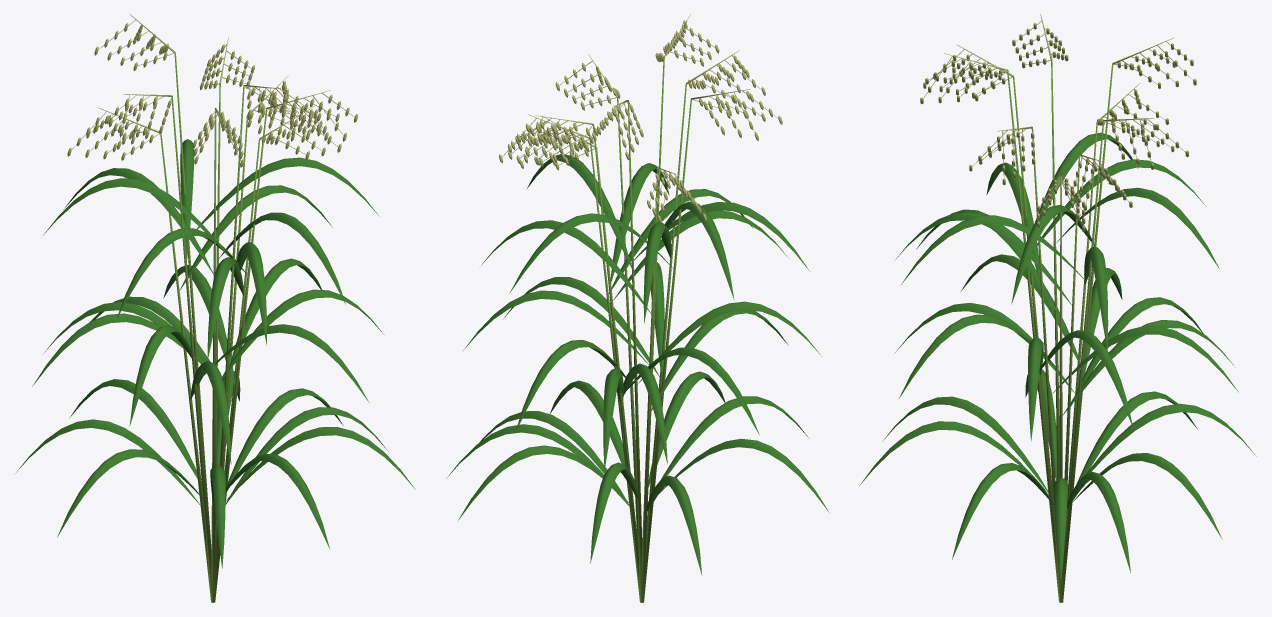
Rendered from rice.glb.
3 renders of one model, left to right at view 1: azimuth 30°, elevation 25°; view 2: azimuth 150°, elevation 25°; view 3: azimuth 270°, elevation 25°, orthographic.
Visible parts, largest first — view 1: Rice_Long_Narrow_Leaves, Rice_Clump_Stems, Rice_Individual_Panicle_Grains, Rice_Drooping_Panicle_Branches; view 2: Rice_Long_Narrow_Leaves, Rice_Clump_Stems, Rice_Individual_Panicle_Grains, Rice_Drooping_Panicle_Branches; view 3: Rice_Long_Narrow_Leaves, Rice_Clump_Stems, Rice_Individual_Panicle_Grains, Rice_Drooping_Panicle_Branches.
Part boxes in pixels (<box>): Rice_Long_Narrow_Leaves: <box>15,139,415,568</box>; Rice_Clump_Stems: <box>160,52,267,602</box>; Rice_Individual_Panicle_Grains: <box>67,23,358,167</box>; Rice_Drooping_Panicle_Branches: <box>72,14,354,160</box>; Rice_Long_Narrow_Leaves: <box>446,154,829,575</box>; Rice_Clump_Stems: <box>589,57,691,602</box>; Rice_Individual_Panicle_Grains: <box>499,20,782,223</box>; Rice_Drooping_Panicle_Branches: <box>502,14,777,216</box>; Rice_Long_Narrow_Leaves: <box>859,132,1256,581</box>; Rice_Clump_Stems: <box>1007,60,1113,602</box>; Rice_Individual_Panicle_Grains: <box>920,23,1196,232</box>; Rice_Drooping_Panicle_Branches: <box>923,14,1192,225</box>.
Bounding box in the file's own units: 0.9924 × 1.5 × 0.981.
